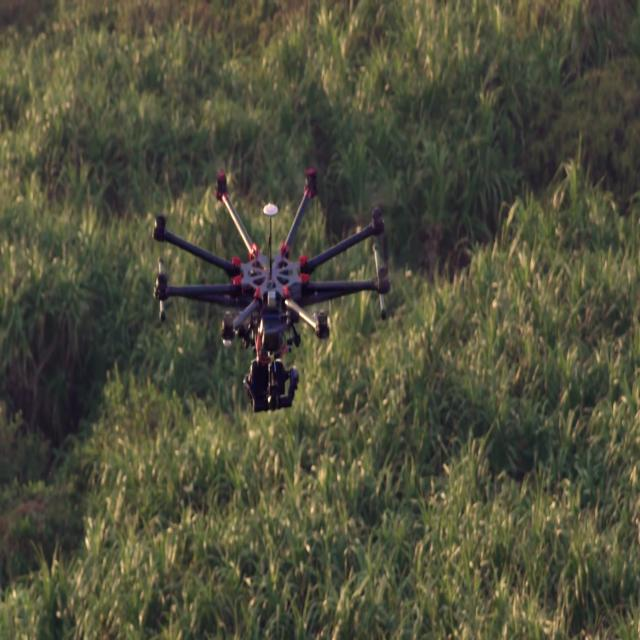drone: (125, 147, 397, 424)
